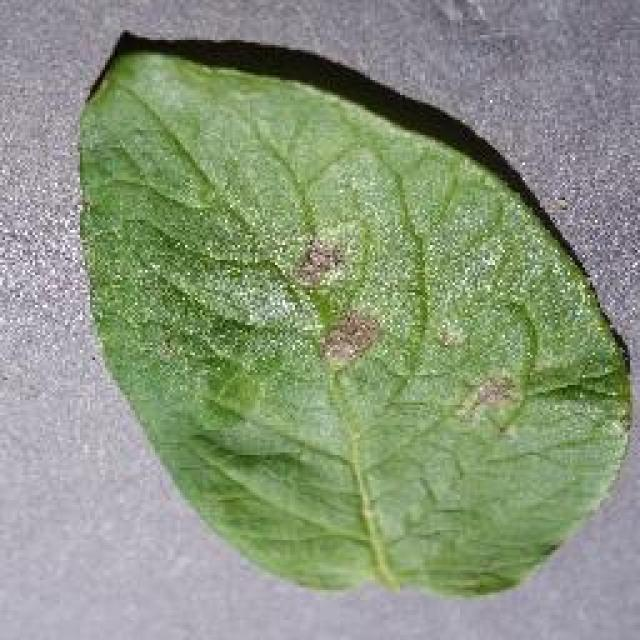early_blight: (70, 28, 638, 602)
